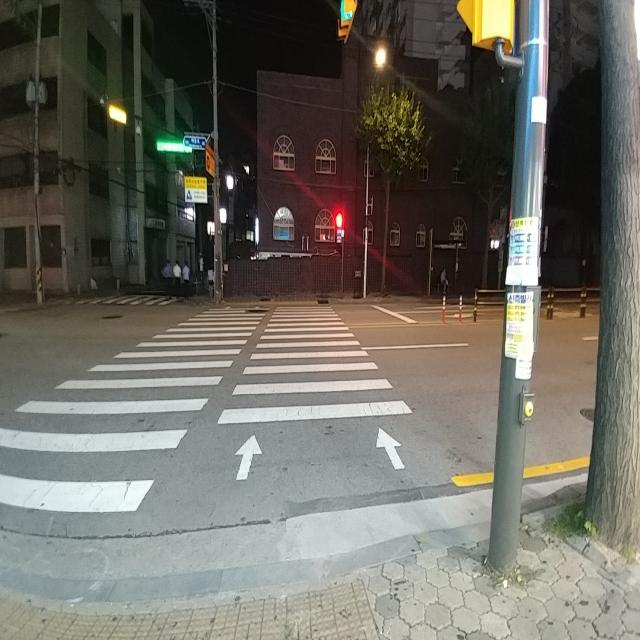빨간불: (336, 213, 342, 242)
횡단보도: (0, 304, 414, 516)
